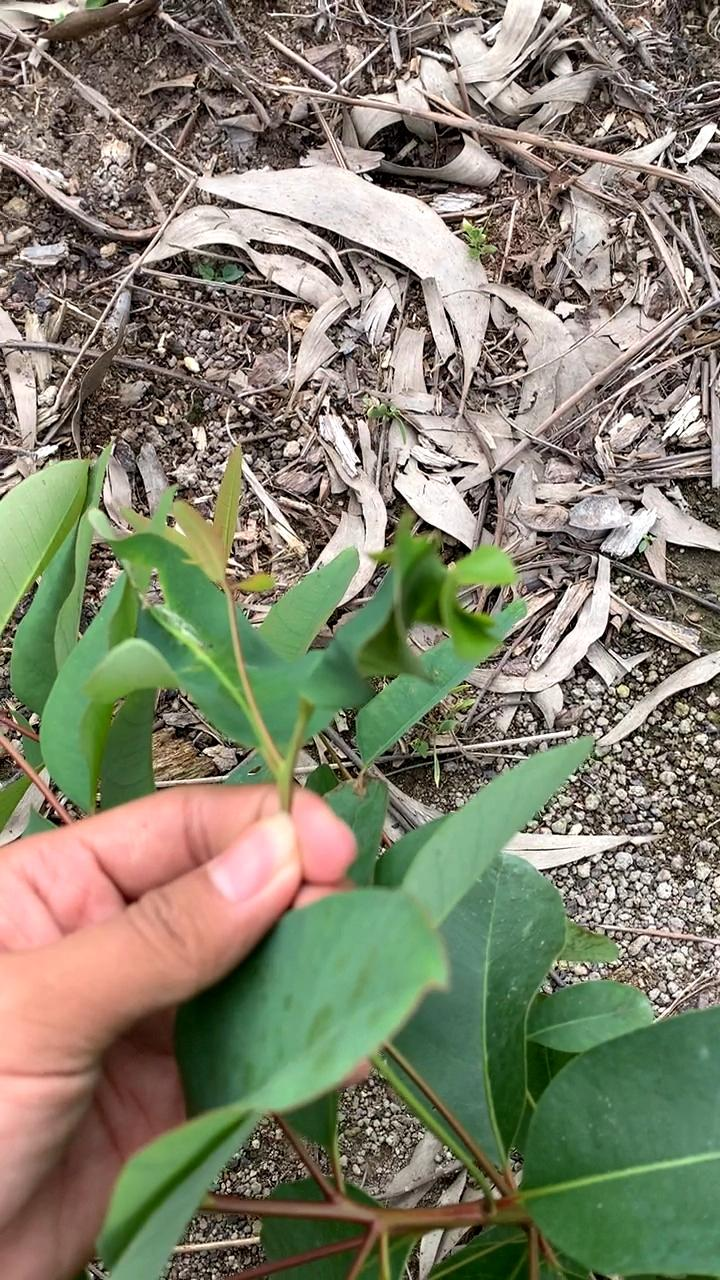Leaf Roller - Leaf: (270, 531, 525, 731)
